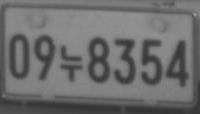0: (8, 33, 29, 78)
3: (113, 38, 136, 84)
4: (165, 40, 189, 87)
5: (140, 39, 162, 85)
8: (87, 36, 110, 83)
9: (33, 34, 55, 80)
누: (59, 45, 82, 81)
